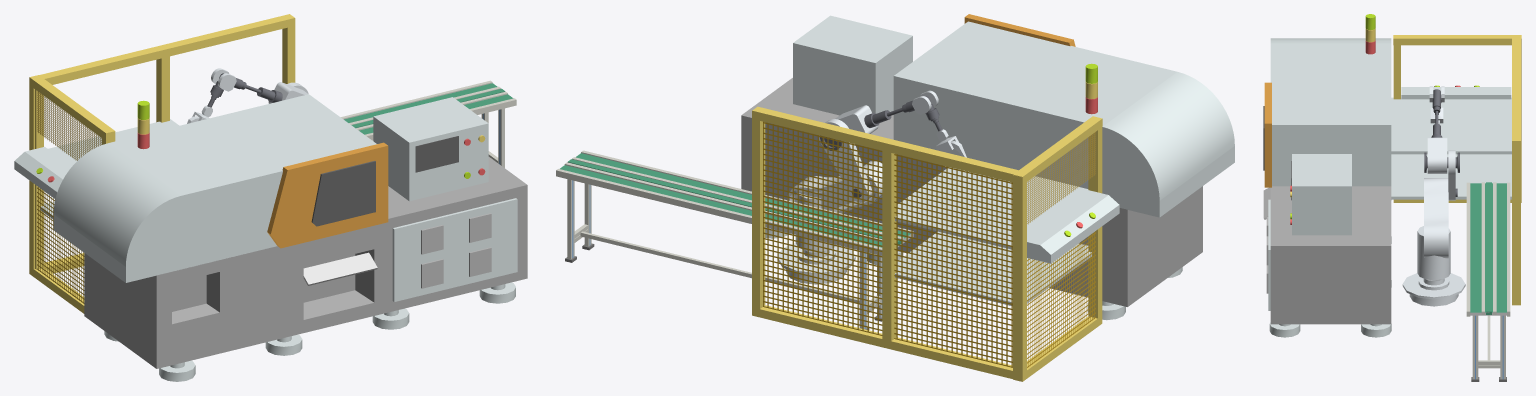
The model's file is platformTwo.glb.
3 views of the same model, side by side, from view 1: azimuth 30°, elevation 25°; view 2: azimuth 150°, elevation 25°; view 3: azimuth 270°, elevation 25° (orthographic). The views are drawn at different scales.
Parts seen in each view (by area): view 1: 立方体 (×4), 立方体.1 (×2), 立方体.2 (×4), 立方体.10, 立方体.8, 立方体.9, 平面, 立方体.4 (×2), 圆柱 (×4), 平面.2, 立方体.3 (×3), 立方体.11 (×2) (+6 smaller); view 2: 立方体.1 (×3), 立方体 (×5), 平面.1, 平面.3, 立方体.10 (×2), 立方体.11 (×2), 立方体.2 (×4), 立方体.13, 立方体.3 (×4), 平面, 立方体.4, 立方体.7-材质.2 (+7 smaller); view 3: 立方体 (×5), 立方体.1 (×2), 立方体.11 (×2), 立方体.10 (×2), 立方体.13, 圆柱 (×3), 立方体.7-材质.2, 立方体.2 (×3), 立方体.8 (×2), 立方体.4, 立方体.3, 立方体.12 (+4 smaller).
Part boxes in pixels (bbox=[...]): 立方体 (×4): bbox=[29, 14, 527, 368]; 立方体.1 (×2): bbox=[35, 89, 376, 282]; 立方体.2 (×4): bbox=[29, 18, 517, 301]; 立方体.10: bbox=[373, 97, 488, 201]; 立方体.8: bbox=[267, 142, 388, 248]; 立方体.9: bbox=[311, 161, 375, 226]; 平面: bbox=[37, 187, 84, 303]; 立方体.4 (×2): bbox=[14, 146, 443, 288]; 圆柱 (×4): bbox=[159, 282, 515, 381]; 平面.2: bbox=[37, 91, 101, 160]; 立方体.3 (×3): bbox=[29, 225, 443, 313]; 立方体.11 (×2): bbox=[48, 80, 492, 166]; 立方体.1 (×3): bbox=[882, 21, 1234, 348]; 立方体 (×5): bbox=[741, 78, 1202, 306]; 平面.1: bbox=[894, 154, 1012, 367]; 平面.3: bbox=[763, 121, 882, 335]; 立方体.10 (×2): bbox=[564, 15, 912, 242]; 立方体.11 (×2): bbox=[556, 167, 1088, 255]; 立方体.2 (×4): bbox=[752, 111, 1026, 381]; 立方体.13: bbox=[895, 231, 1091, 305]; 立方体.3 (×4): bbox=[753, 105, 1102, 380]; 平面: bbox=[1027, 232, 1095, 367]; 立方体.4: bbox=[1027, 190, 1119, 263]; 立方体.7-材质.2: bbox=[560, 153, 910, 247]; 立方体 (×5): bbox=[1270, 35, 1521, 324]; 立方体.1 (×2): bbox=[1270, 38, 1400, 202]; 立方体.11 (×2): bbox=[1391, 97, 1511, 316]; 立方体.10 (×2): bbox=[1292, 154, 1496, 314]; 立方体.13: bbox=[1391, 154, 1511, 199]; 圆柱 (×3): bbox=[1269, 226, 1465, 337]; 立方体.7-材质.2: bbox=[1470, 183, 1506, 312]; 立方体.2 (×3): bbox=[1268, 141, 1520, 310]; 立方体.8 (×2): bbox=[1264, 82, 1491, 314]; 立方体.4: bbox=[1401, 87, 1511, 99]; 立方体.3: bbox=[1427, 137, 1447, 173]; 立方体.12: bbox=[1466, 182, 1470, 316].
Bounding box in the file's own units: 183 × 79.33 × 96.31.
15 materials, 1 textured.
